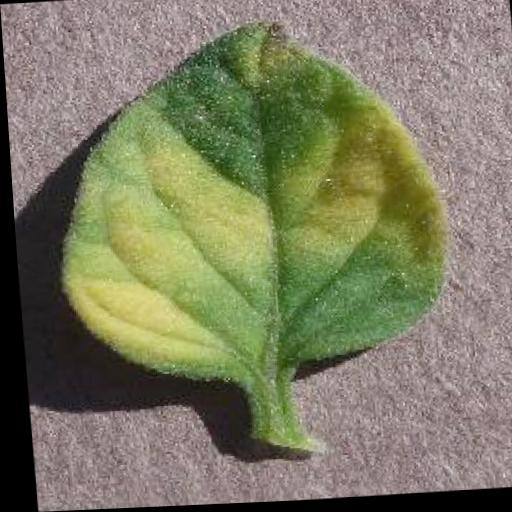Leaf Mold: (40, 10, 458, 397)
